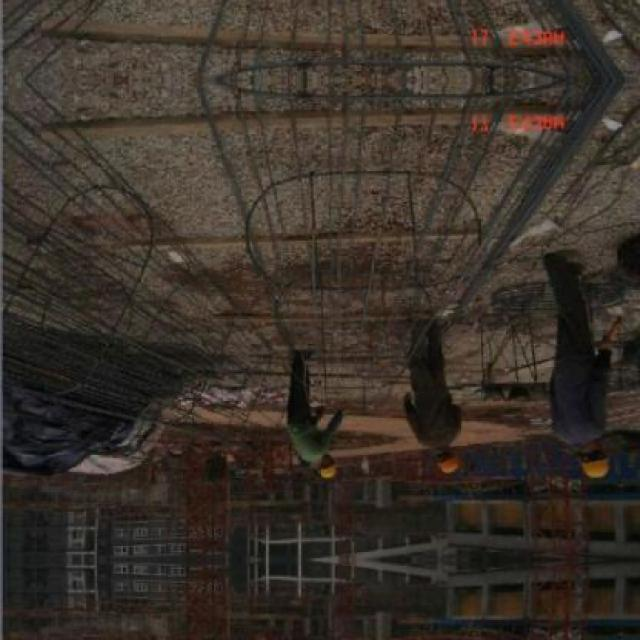con casco: (566, 448, 609, 484), (434, 447, 464, 483), (304, 455, 335, 489)
